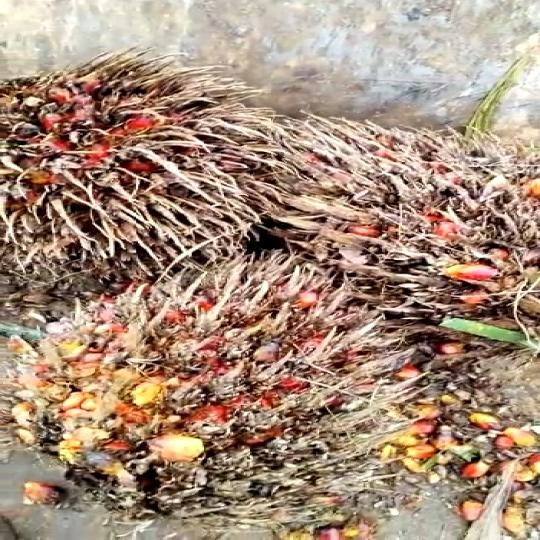terlalu masak: (7, 261, 423, 505), (0, 52, 258, 288)
